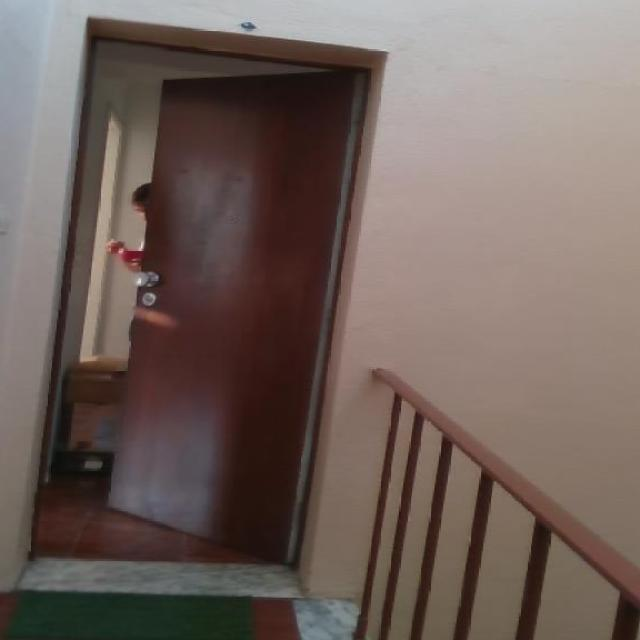door: (107, 64, 364, 566)
